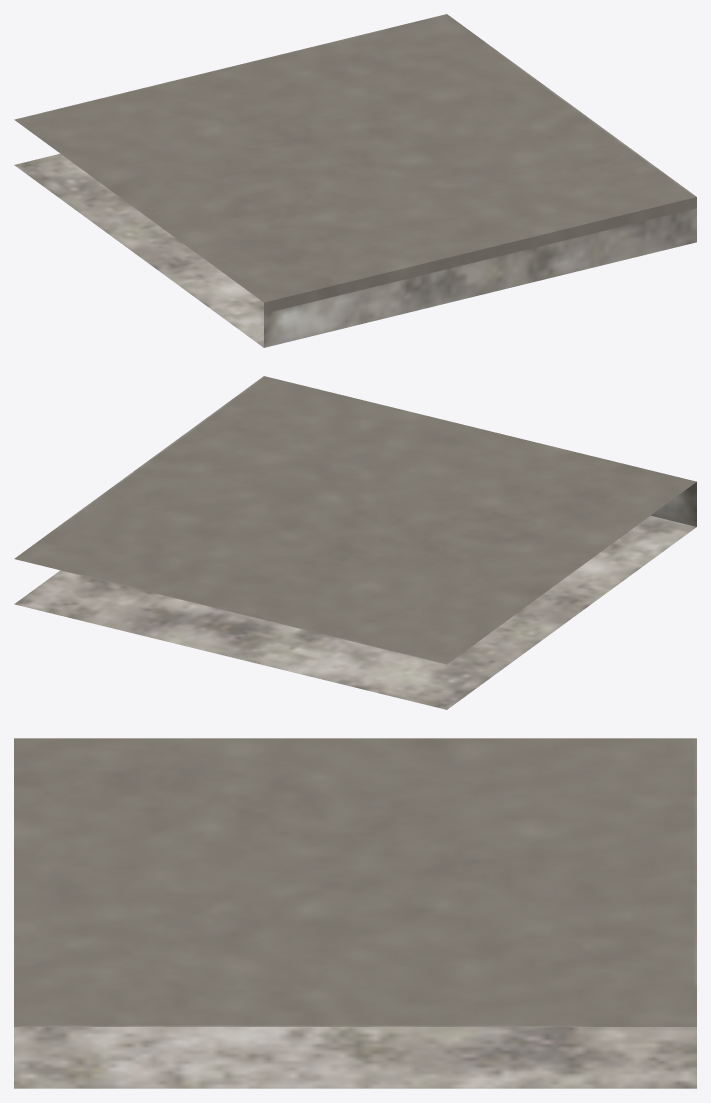
File: sb_obj_outdoor041_Balcony02d.fbx
The picture shows the model from 3 angles, top to bottom: view 1: azimuth 30°, elevation 25°; view 2: azimuth 150°, elevation 25°; view 3: azimuth 270°, elevation 25°; orthographic projection. The views are drawn at different scales.
Parts seen in each view (by area): view 1: iron_edge.001; view 2: iron_edge.001; view 3: iron_edge.001.
Part boxes in pixels (x1,y1,x2,y2): iron_edge.001: (14,14,696,347); iron_edge.001: (14,376,696,709); iron_edge.001: (14,738,696,1088).
Bounding box in the file's own units: 1 × 0.1 × 1.
